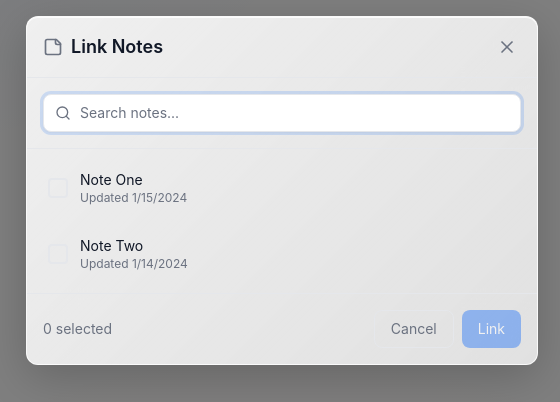
Scenario: LinkItemModal › Selection › can select multiple items
Click the text "Note One" at (111, 179), box [80,170,143,188]
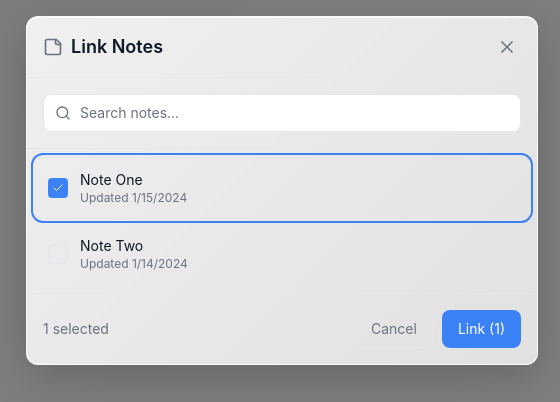
Click the text "Note Two" at (112, 245), box [80,236,143,254]
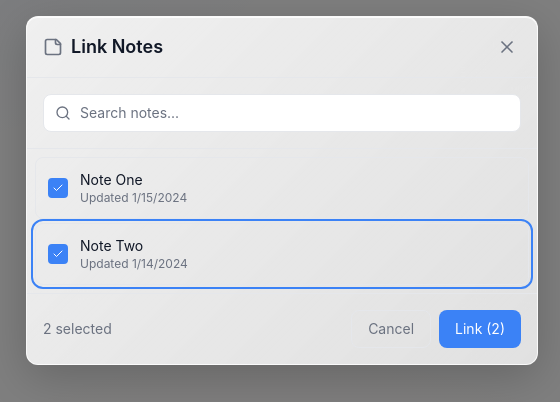
expect the text "2 selected" is shown: met, box [43,318,112,338]
